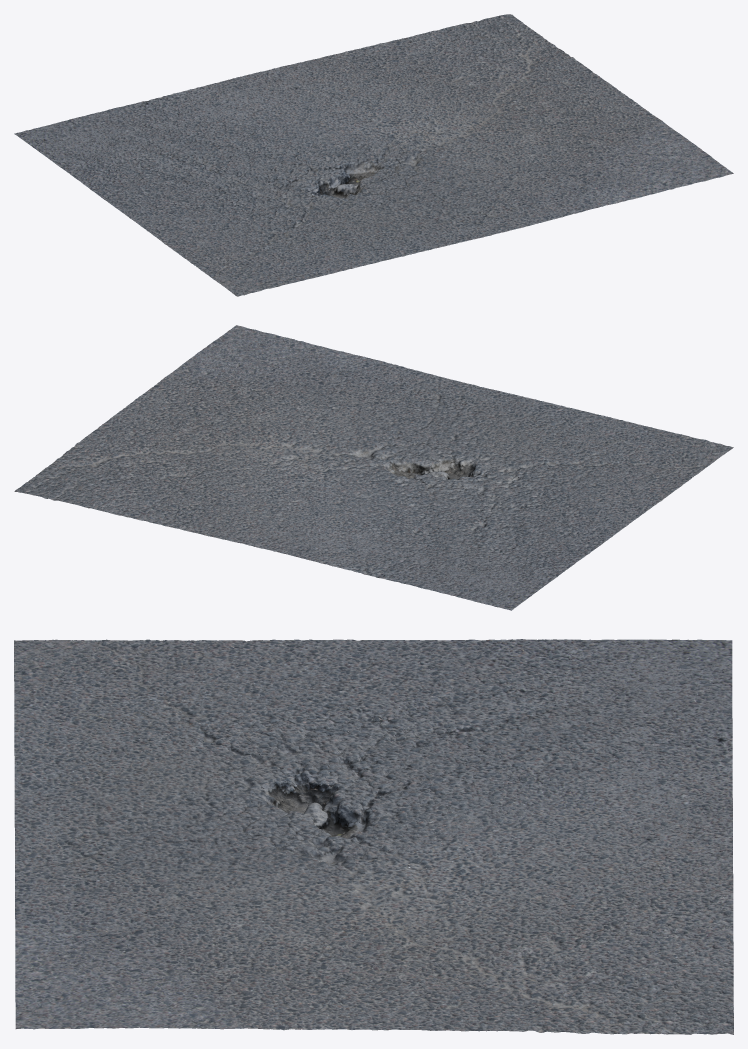
Rendered from photoscan_-_pothole_1.glb.
The picture shows the model from 3 angles, top to bottom: view 1: azimuth 30°, elevation 25°; view 2: azimuth 150°, elevation 25°; view 3: azimuth 270°, elevation 25°; orthographic projection. The views are drawn at different scales.
Parts seen in each view (by area): view 1: Object_2, Object_3, Object_4; view 2: Object_2, Object_3, Object_4; view 3: Object_2, Object_3, Object_4.
Part boxes in pixels (box(x1,y1,x2,y2)): Object_2: box(14, 14, 733, 296); Object_3: box(79, 17, 717, 293); Object_4: box(91, 15, 725, 290); Object_2: box(14, 325, 733, 610); Object_3: box(30, 335, 722, 566); Object_4: box(19, 328, 723, 555); Object_2: box(14, 639, 733, 1034); Object_3: box(14, 641, 731, 1029); Object_4: box(14, 640, 733, 1034).
Size of the model in its own units: 2 by 0.0632 by 1.56.
Materials: 1 (1 with a texture image).
